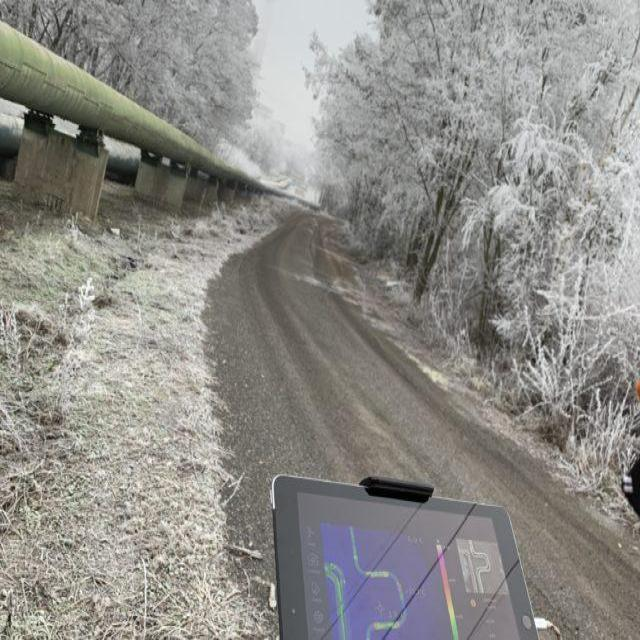gas: (0, 22, 270, 194)
